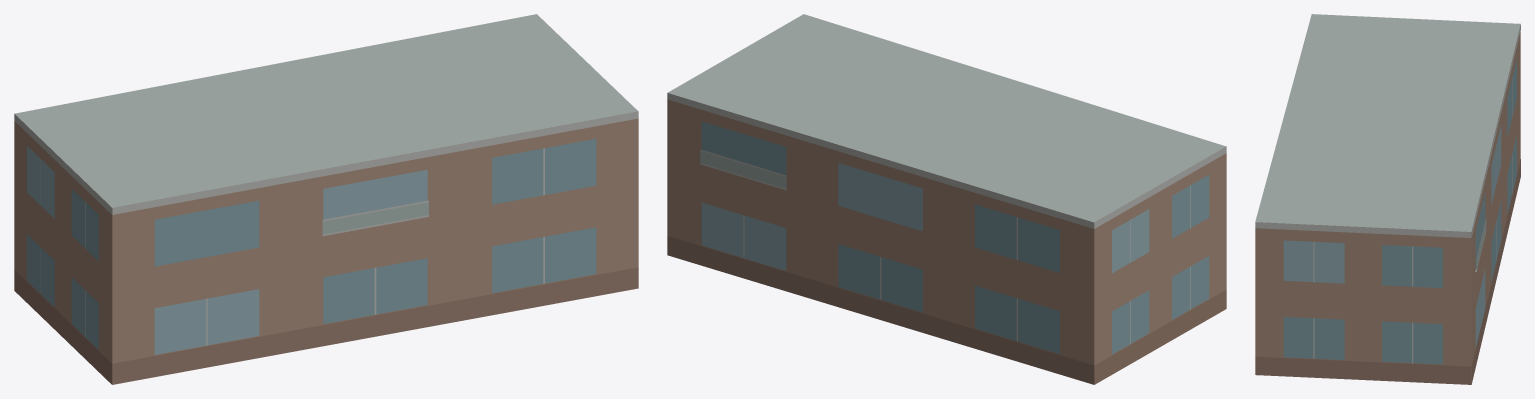
Rendered from survey-upis-32566580.glb.
3 renders of one model, left to right at view 1: azimuth 30°, elevation 25°; view 2: azimuth 150°, elevation 25°; view 3: azimuth 270°, elevation 25°, orthographic. The views are drawn at different scales.
Visible parts, largest first — view 1: survey-upis-32566580.tmp; view 2: survey-upis-32566580.tmp; view 3: survey-upis-32566580.tmp.
Boxes of the visible parts, x1,y1,x2,y2 form: survey-upis-32566580.tmp: (14,14,638,384); survey-upis-32566580.tmp: (667,14,1226,384); survey-upis-32566580.tmp: (1255,14,1520,384).
Size of the model in its own units: 18.66 by 6.1 by 9.62.
